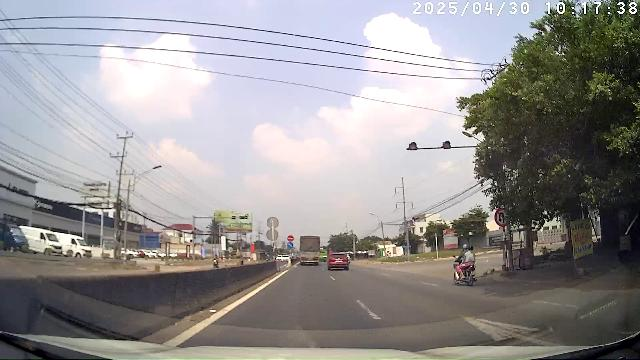102-cam-di-nguoc-chieu: (287, 235, 294, 241)
124a-cam-quay-dau-xe: (494, 208, 507, 226)
302a-huong-phai-di-vong-chuong-ngai-vat-1: (287, 242, 294, 248)
